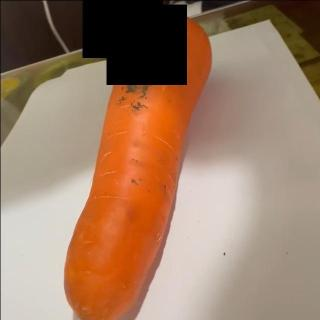carrot: (59, 7, 213, 320)
